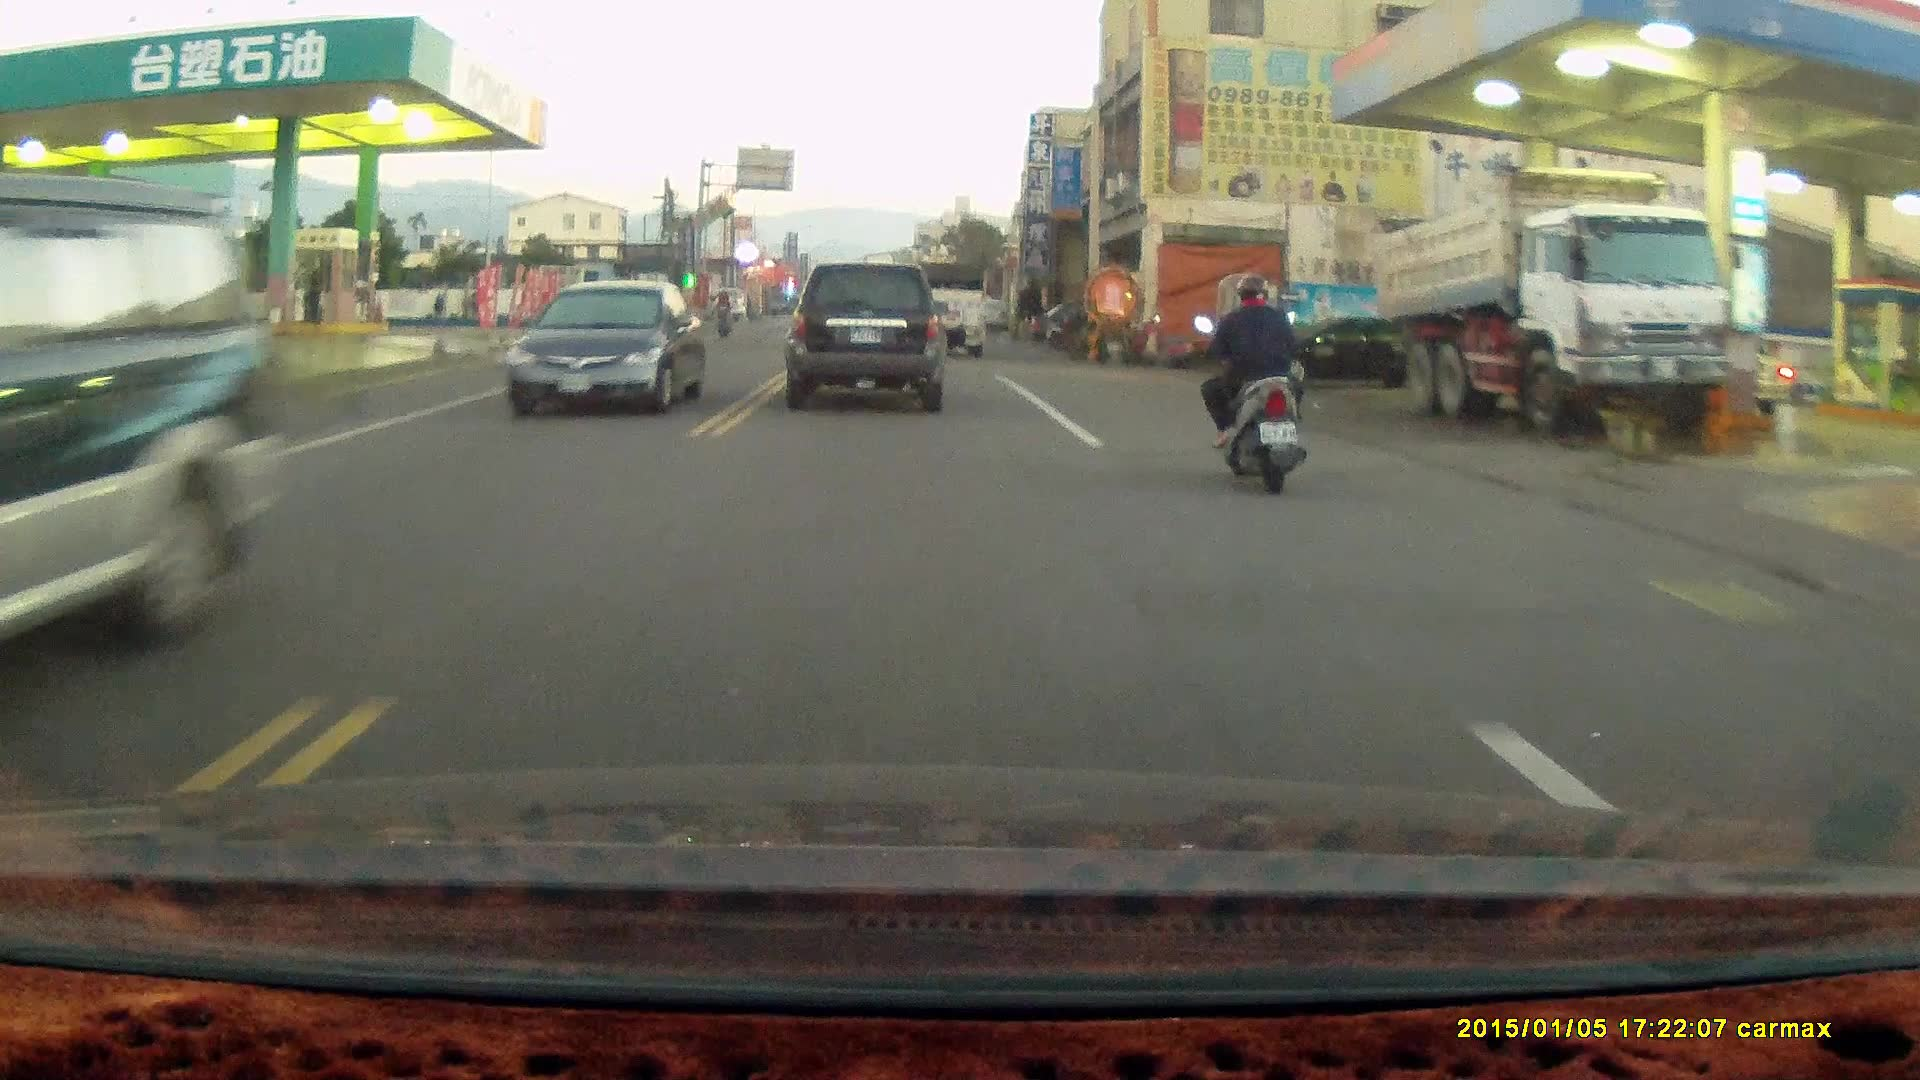rider: (1190, 271, 1306, 496), (708, 288, 733, 341)
vehicle: (1, 171, 287, 681), (1375, 160, 1725, 434), (509, 278, 707, 418), (785, 260, 951, 409), (906, 260, 991, 362)
